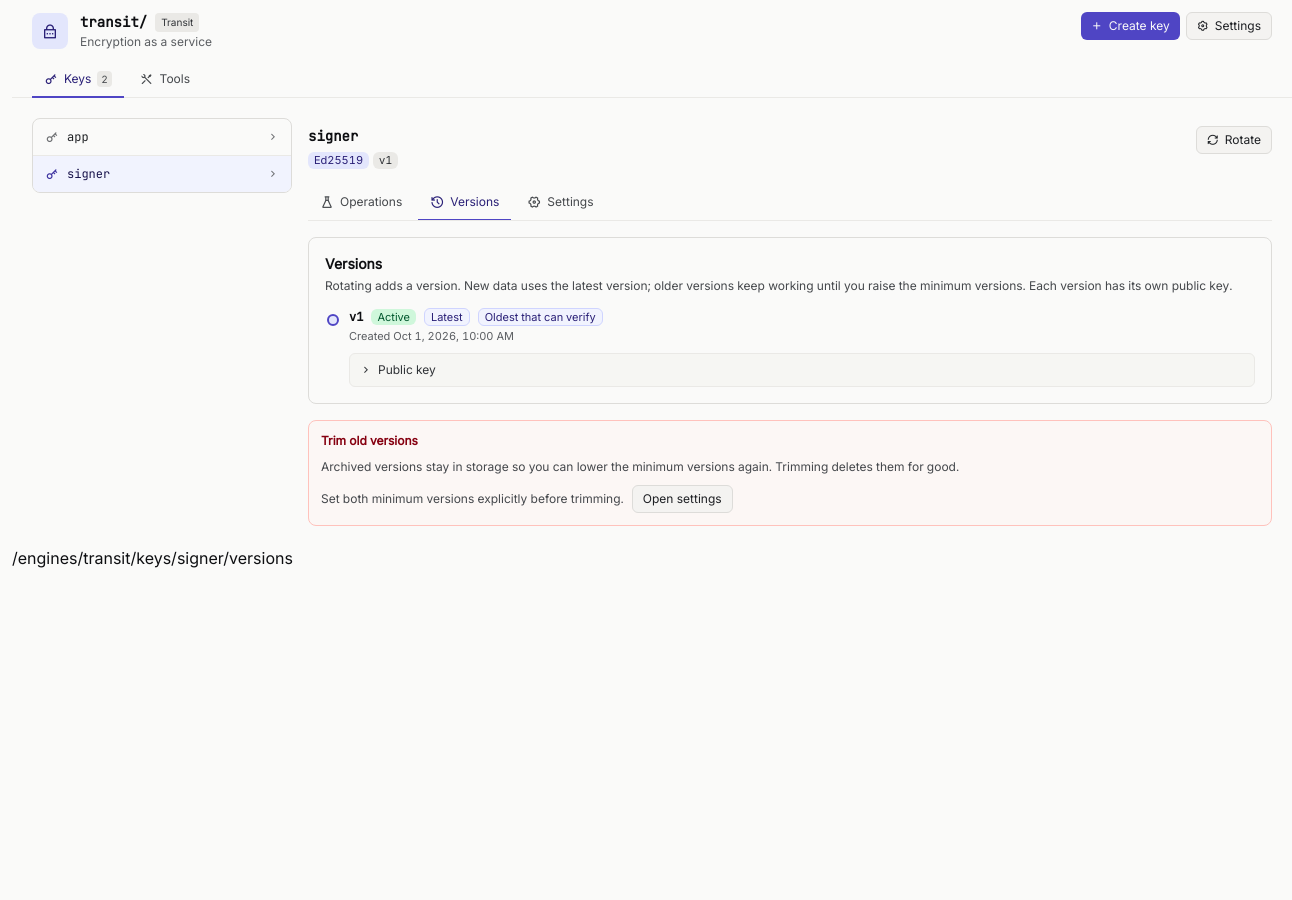
Test case: Transit workspace keys › copies public keys of asymmetric keys
Click the heading "Public key": (398, 370) [360,362,436,378]
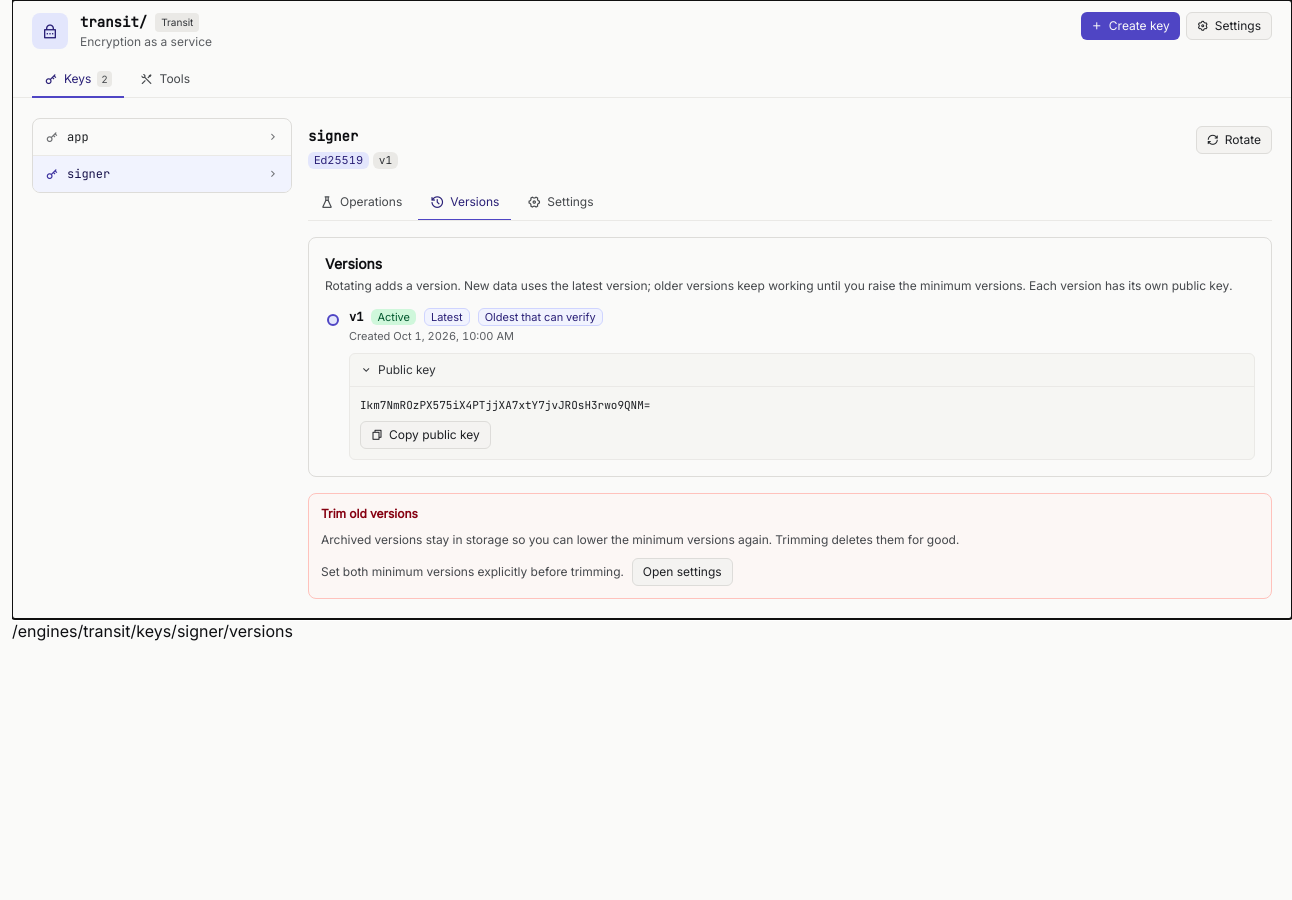
Click the button with aria-label "Copy public key for version 1": (425, 434) [360,420,491,448]
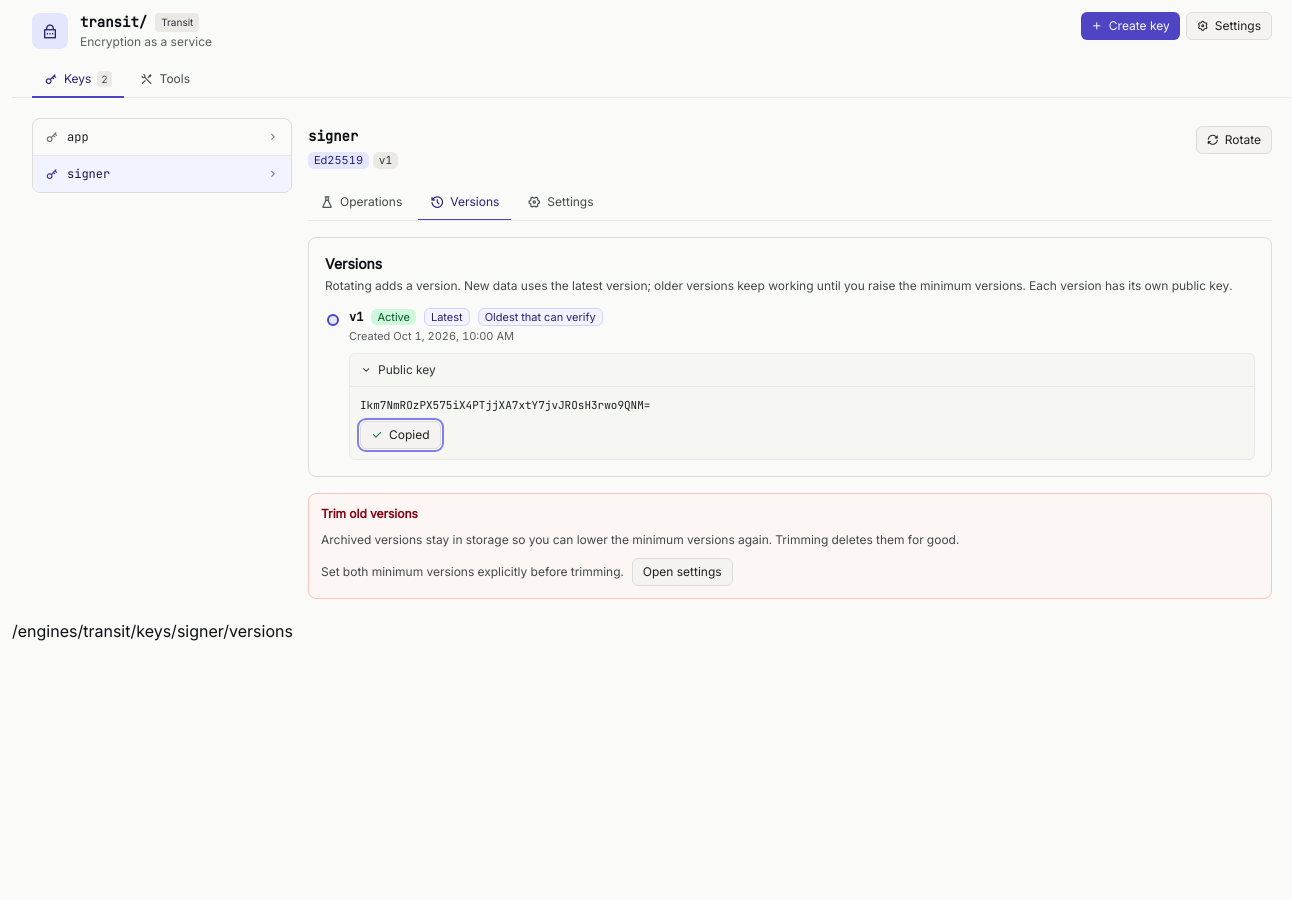
Now the button "Copied" is shown, box [360,420,441,448]
